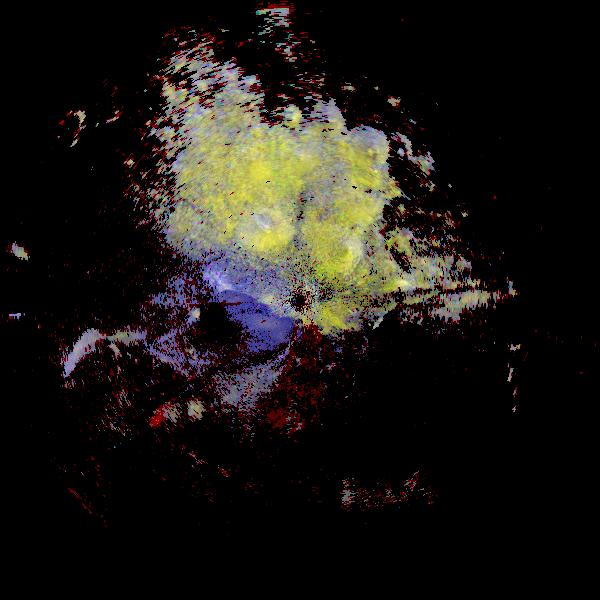roost: (53, 320, 155, 422), (231, 192, 294, 255)
